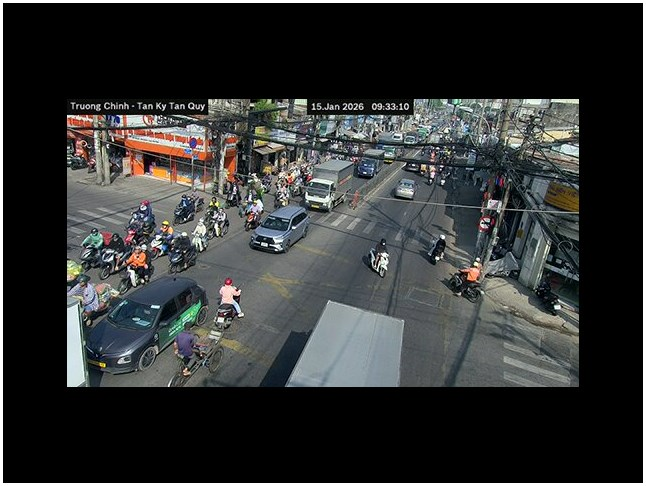car: (83, 273, 209, 374), (249, 203, 310, 254), (304, 177, 345, 212), (355, 159, 379, 179), (394, 179, 416, 200)
motorbike: (440, 260, 486, 299), (168, 232, 197, 273), (361, 238, 389, 278), (205, 204, 229, 238), (424, 235, 447, 265)
